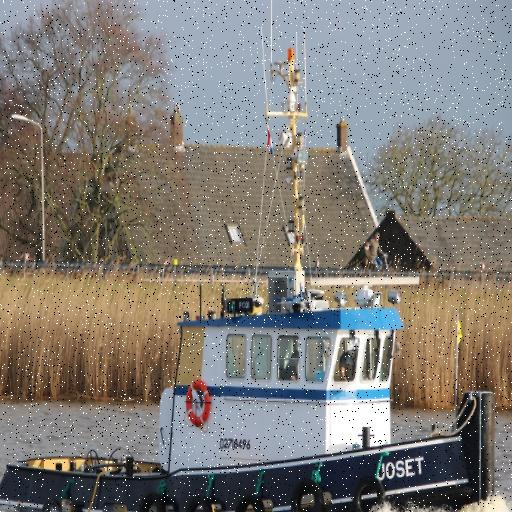tugboat: (1, 256, 502, 512)
